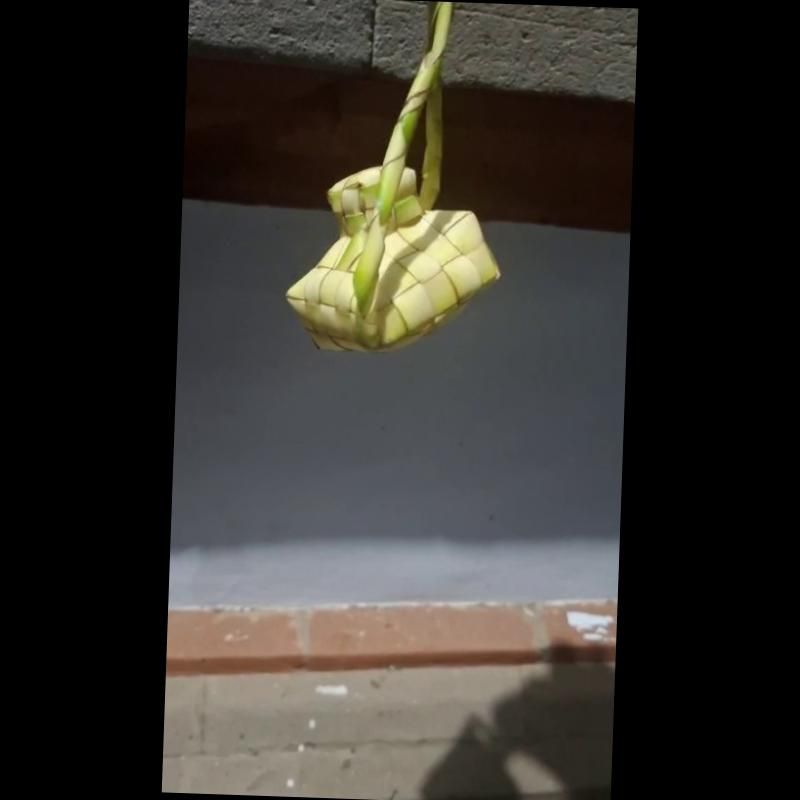Tipat Gong: (286, 1, 500, 352)
